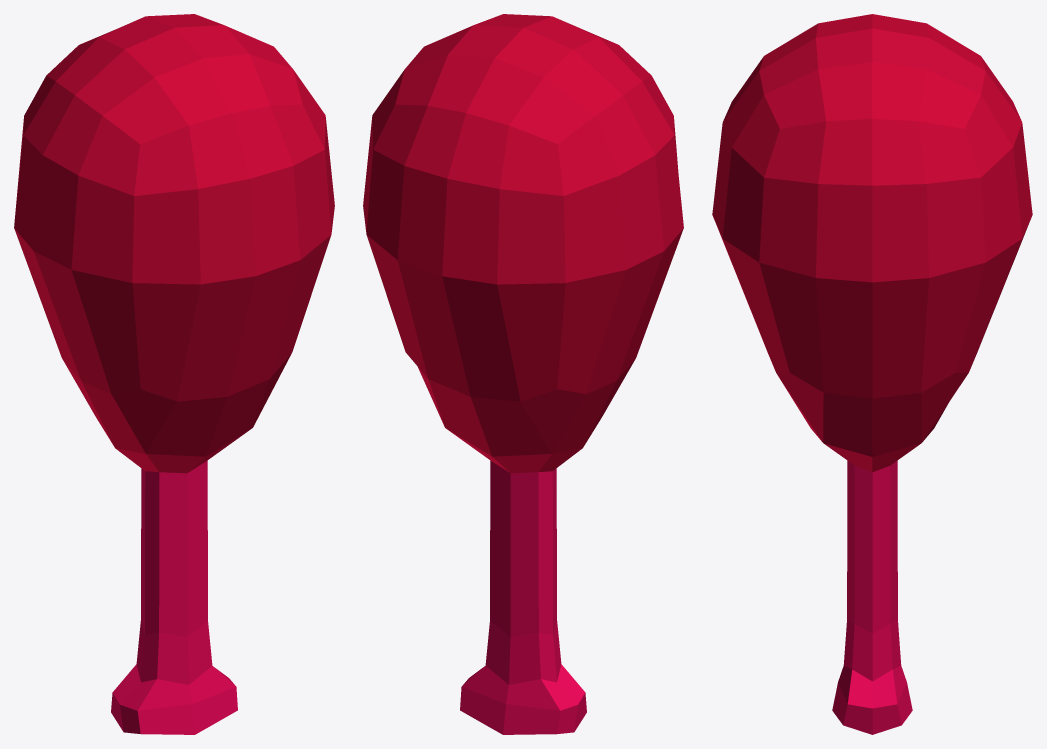
The model's file is ChickenDrumstick_01.fbx.
3 views of the same model, side by side, from view 1: azimuth 30°, elevation 25°; view 2: azimuth 150°, elevation 25°; view 3: azimuth 270°, elevation 25° (orthographic).
Visible parts, largest first — view 1: ChickenDrumstick_01; view 2: ChickenDrumstick_01; view 3: ChickenDrumstick_01.
Part boxes in pixels (x1=…): ChickenDrumstick_01: x1=14, y1=14, x2=334, y2=734; ChickenDrumstick_01: x1=363, y1=14, x2=683, y2=734; ChickenDrumstick_01: x1=712, y1=14, x2=1032, y2=734.
Size of the model in its own units: 3.07 by 7.32 by 3.07.
